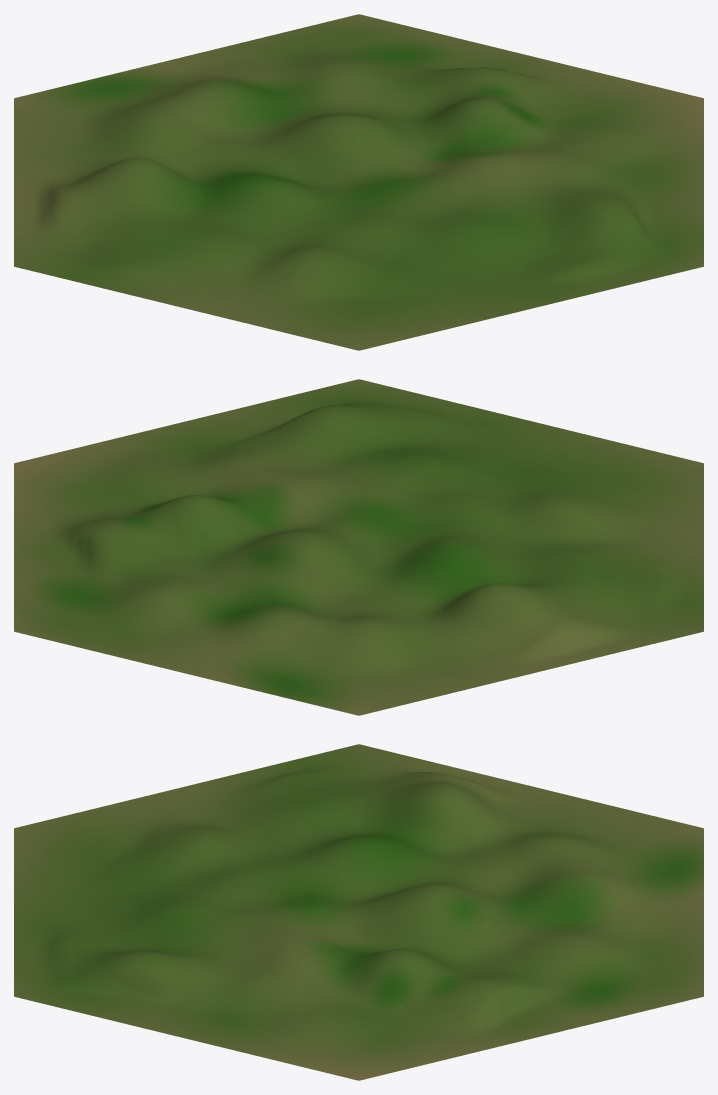
Rendered from Hills2B.glb.
3 renders of one model, top to bottom at view 1: azimuth 30°, elevation 25°; view 2: azimuth 150°, elevation 25°; view 3: azimuth 270°, elevation 25°, orthographic.
Visible parts, largest first — view 1: Circle; view 2: Circle; view 3: Circle.
Boxes of the visible parts, box(x1,y1,x2,y2) form: Circle: box(14, 14, 703, 350); Circle: box(14, 379, 703, 715); Circle: box(14, 744, 703, 1080).
Size of the model in its own units: 400 by 18.94 by 346.
1 material, 1 textured.
